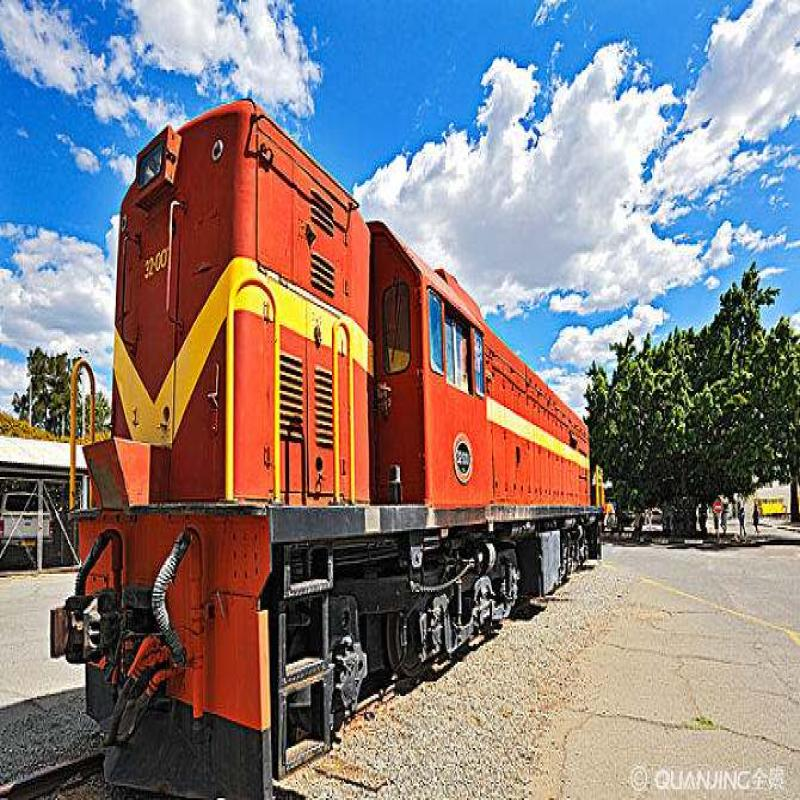train: (92, 96, 612, 758)
